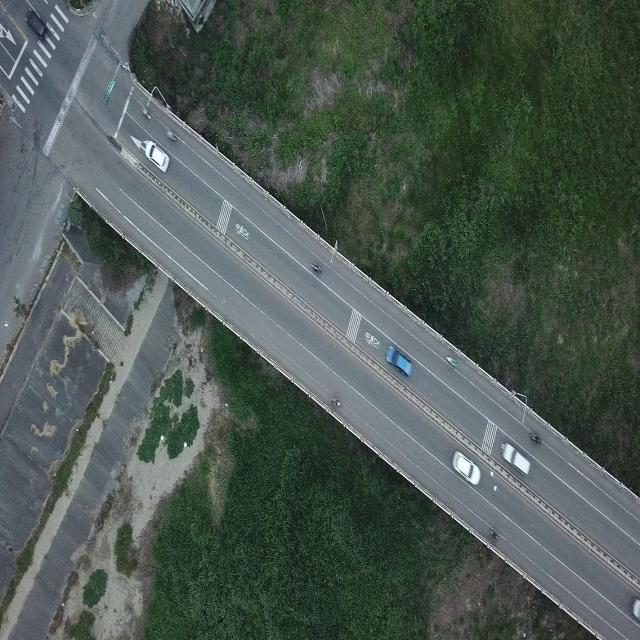bike: (487, 524, 503, 542), (528, 428, 543, 444), (329, 392, 343, 408), (141, 104, 152, 122), (445, 354, 458, 369), (166, 128, 178, 144), (310, 264, 322, 274)
car: (452, 450, 480, 485), (502, 441, 530, 476), (142, 138, 168, 173), (385, 344, 413, 376), (24, 8, 46, 39), (630, 597, 640, 623)
